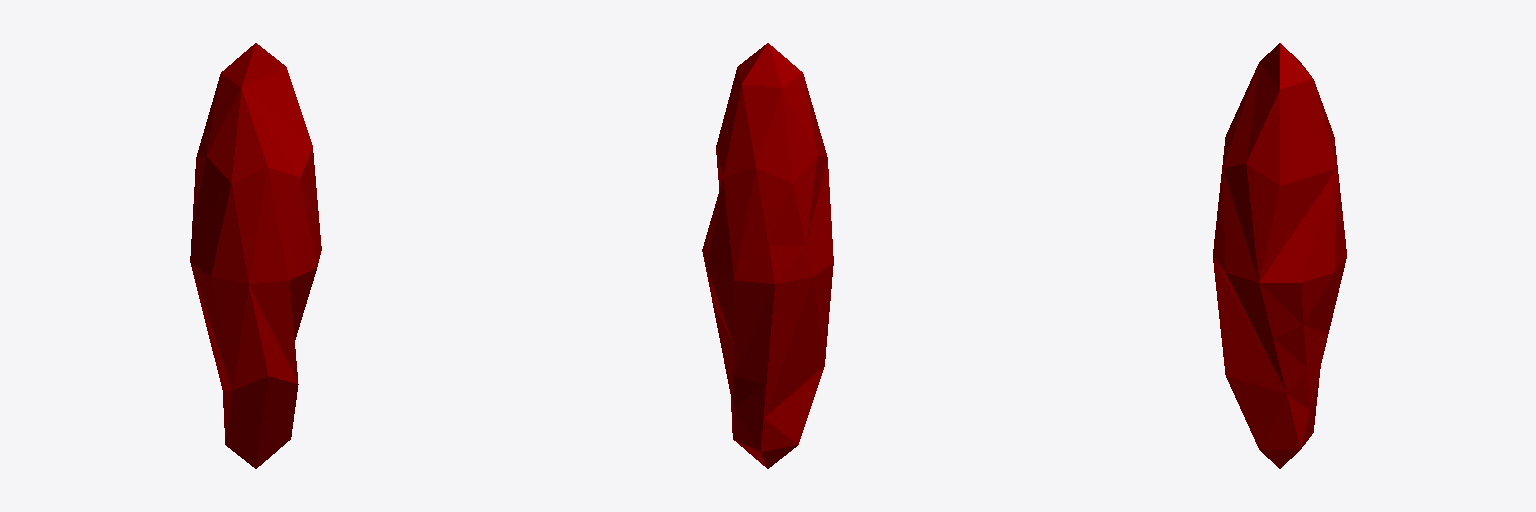
File: mobkiller.obj
The picture shows the model from 3 angles: view 1: azimuth 30°, elevation 25°; view 2: azimuth 150°, elevation 25°; view 3: azimuth 270°, elevation 25°; orthographic projection.
Parts seen in each view (by area): view 1: Icosphere; view 2: Icosphere; view 3: Icosphere.
Boxes of the visible parts, x1=… form: Icosphere: x1=190, y1=43, x2=321, y2=468; Icosphere: x1=702, y1=43, x2=833, y2=468; Icosphere: x1=1213, y1=43, x2=1346, y2=468.
Size of the model in its own units: 0.1902 by 0.7 by 0.2.